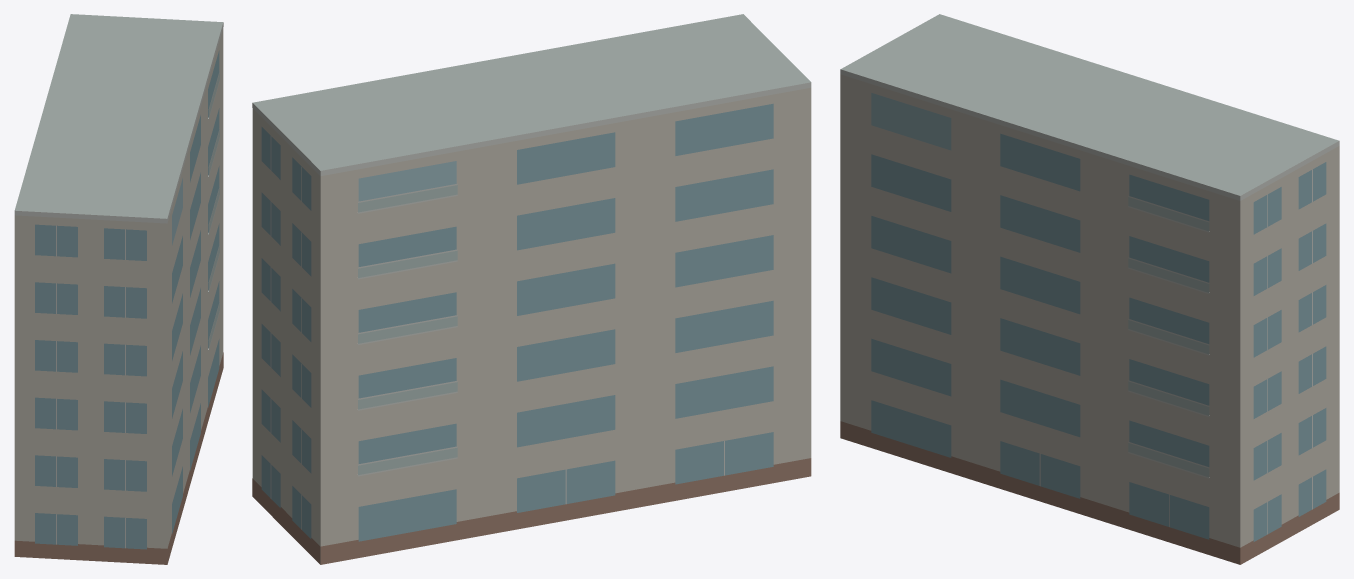
The model's file is survey-upis-32668479.glb.
The picture shows the model from 3 angles, left to right: view 1: azimuth 30°, elevation 25°; view 2: azimuth 150°, elevation 25°; view 3: azimuth 270°, elevation 25°; orthographic projection. The views are drawn at different scales.
Parts seen in each view (by area): view 1: survey-upis-32668479.tmp; view 2: survey-upis-32668479.tmp; view 3: survey-upis-32668479.tmp.
Part boxes in pixels (<box>): survey-upis-32668479.tmp: <box>14,14,223,564</box>; survey-upis-32668479.tmp: <box>252,14,811,564</box>; survey-upis-32668479.tmp: <box>840,14,1339,564</box>.
Size of the model in its own units: 19.06 by 18.01 by 22.09.
